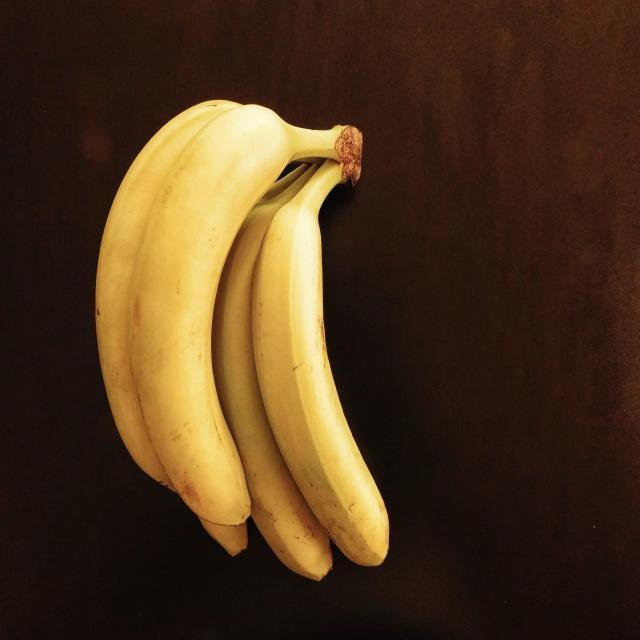Banana: (92, 90, 398, 588)
